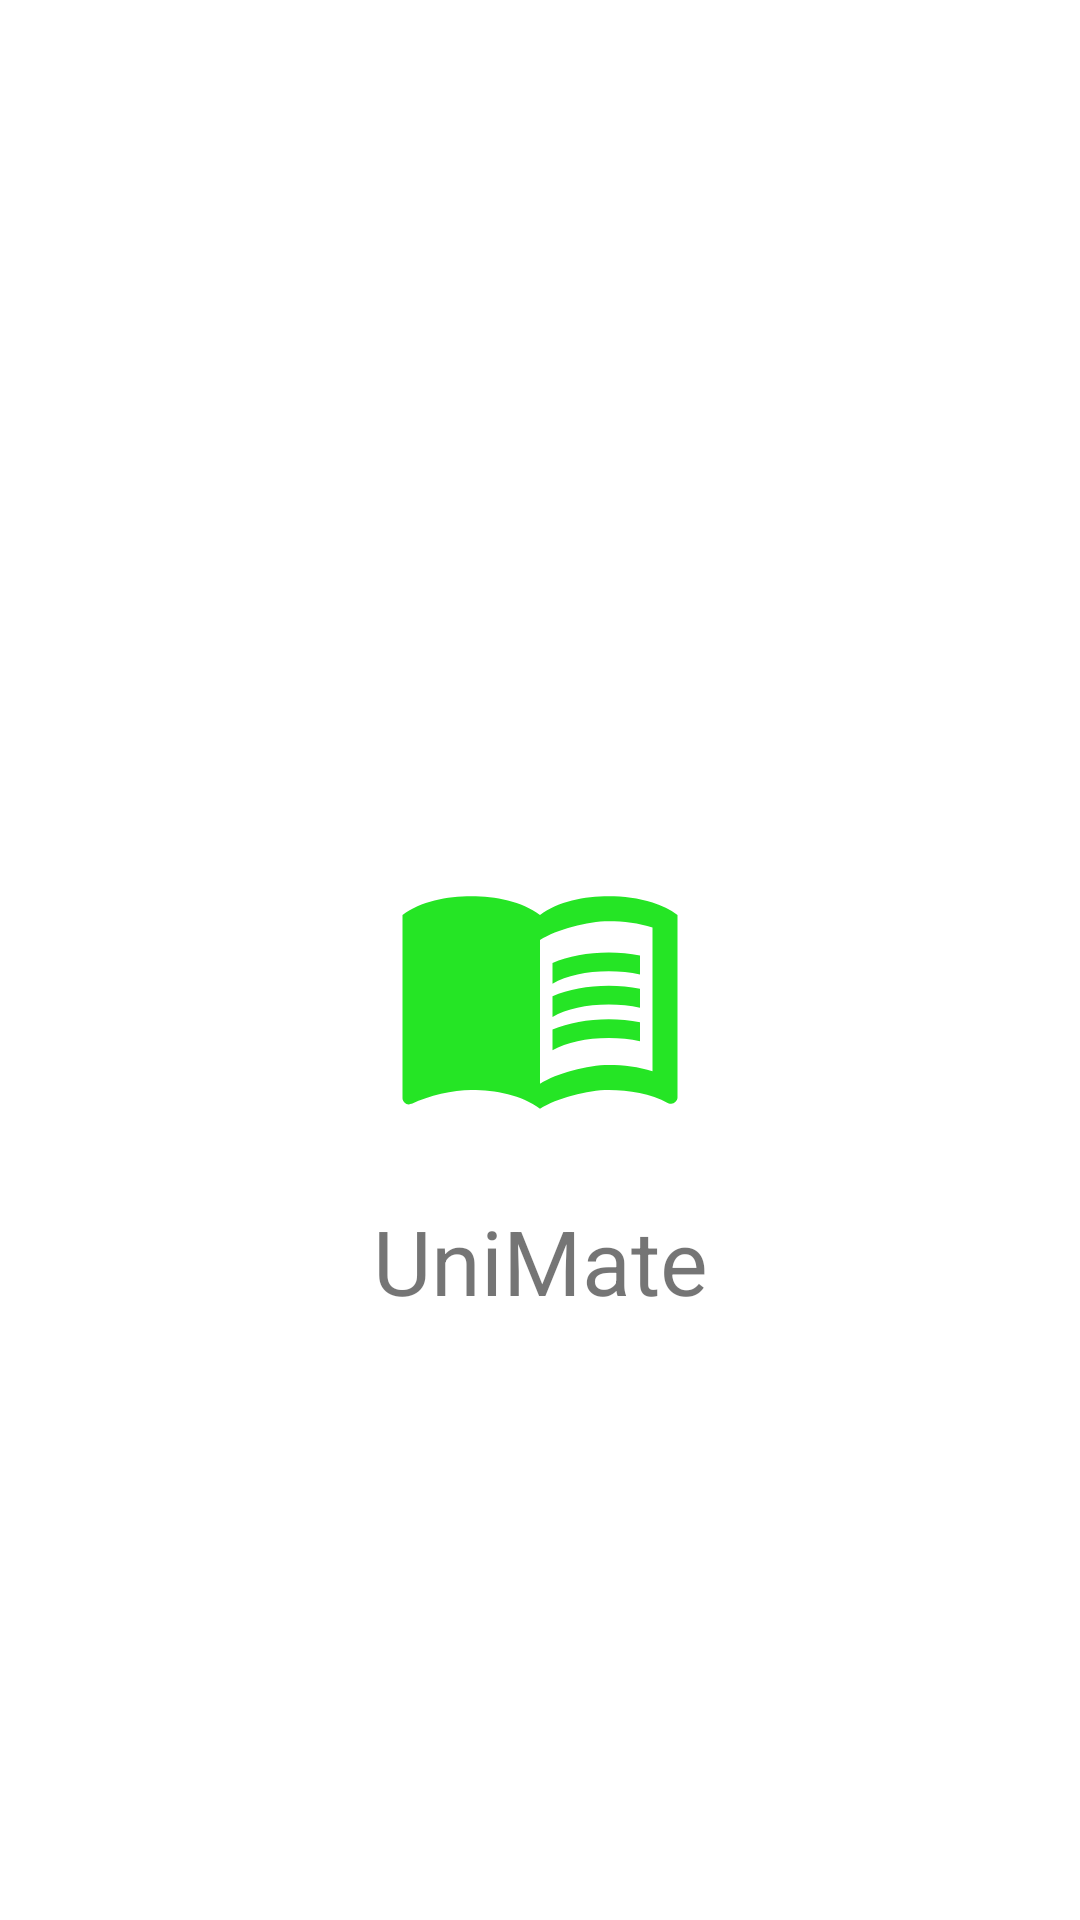

Screen size 1080w x 1920h. Icon name, then its center in pixels as (x=x, y=y):
book: (x=540, y=1002)
